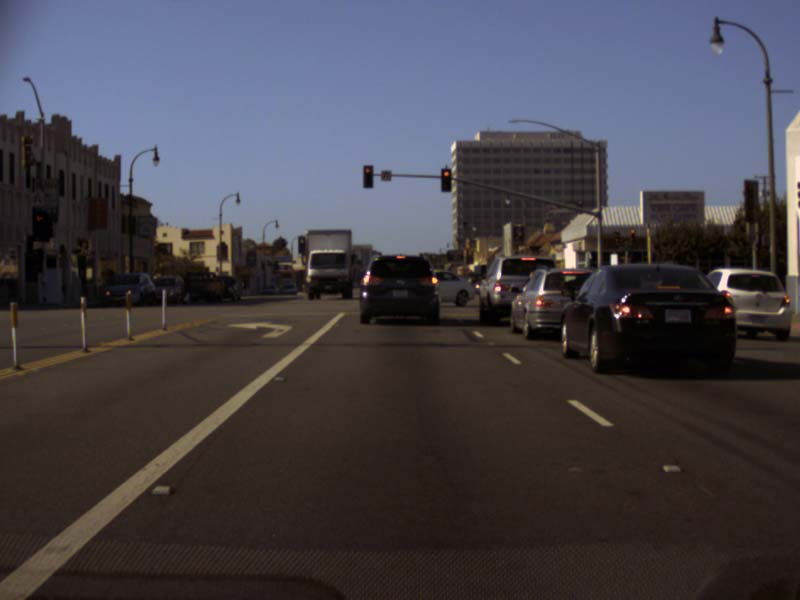Red: (32, 209, 48, 237), (441, 168, 451, 191), (363, 165, 372, 188), (629, 229, 634, 245)
